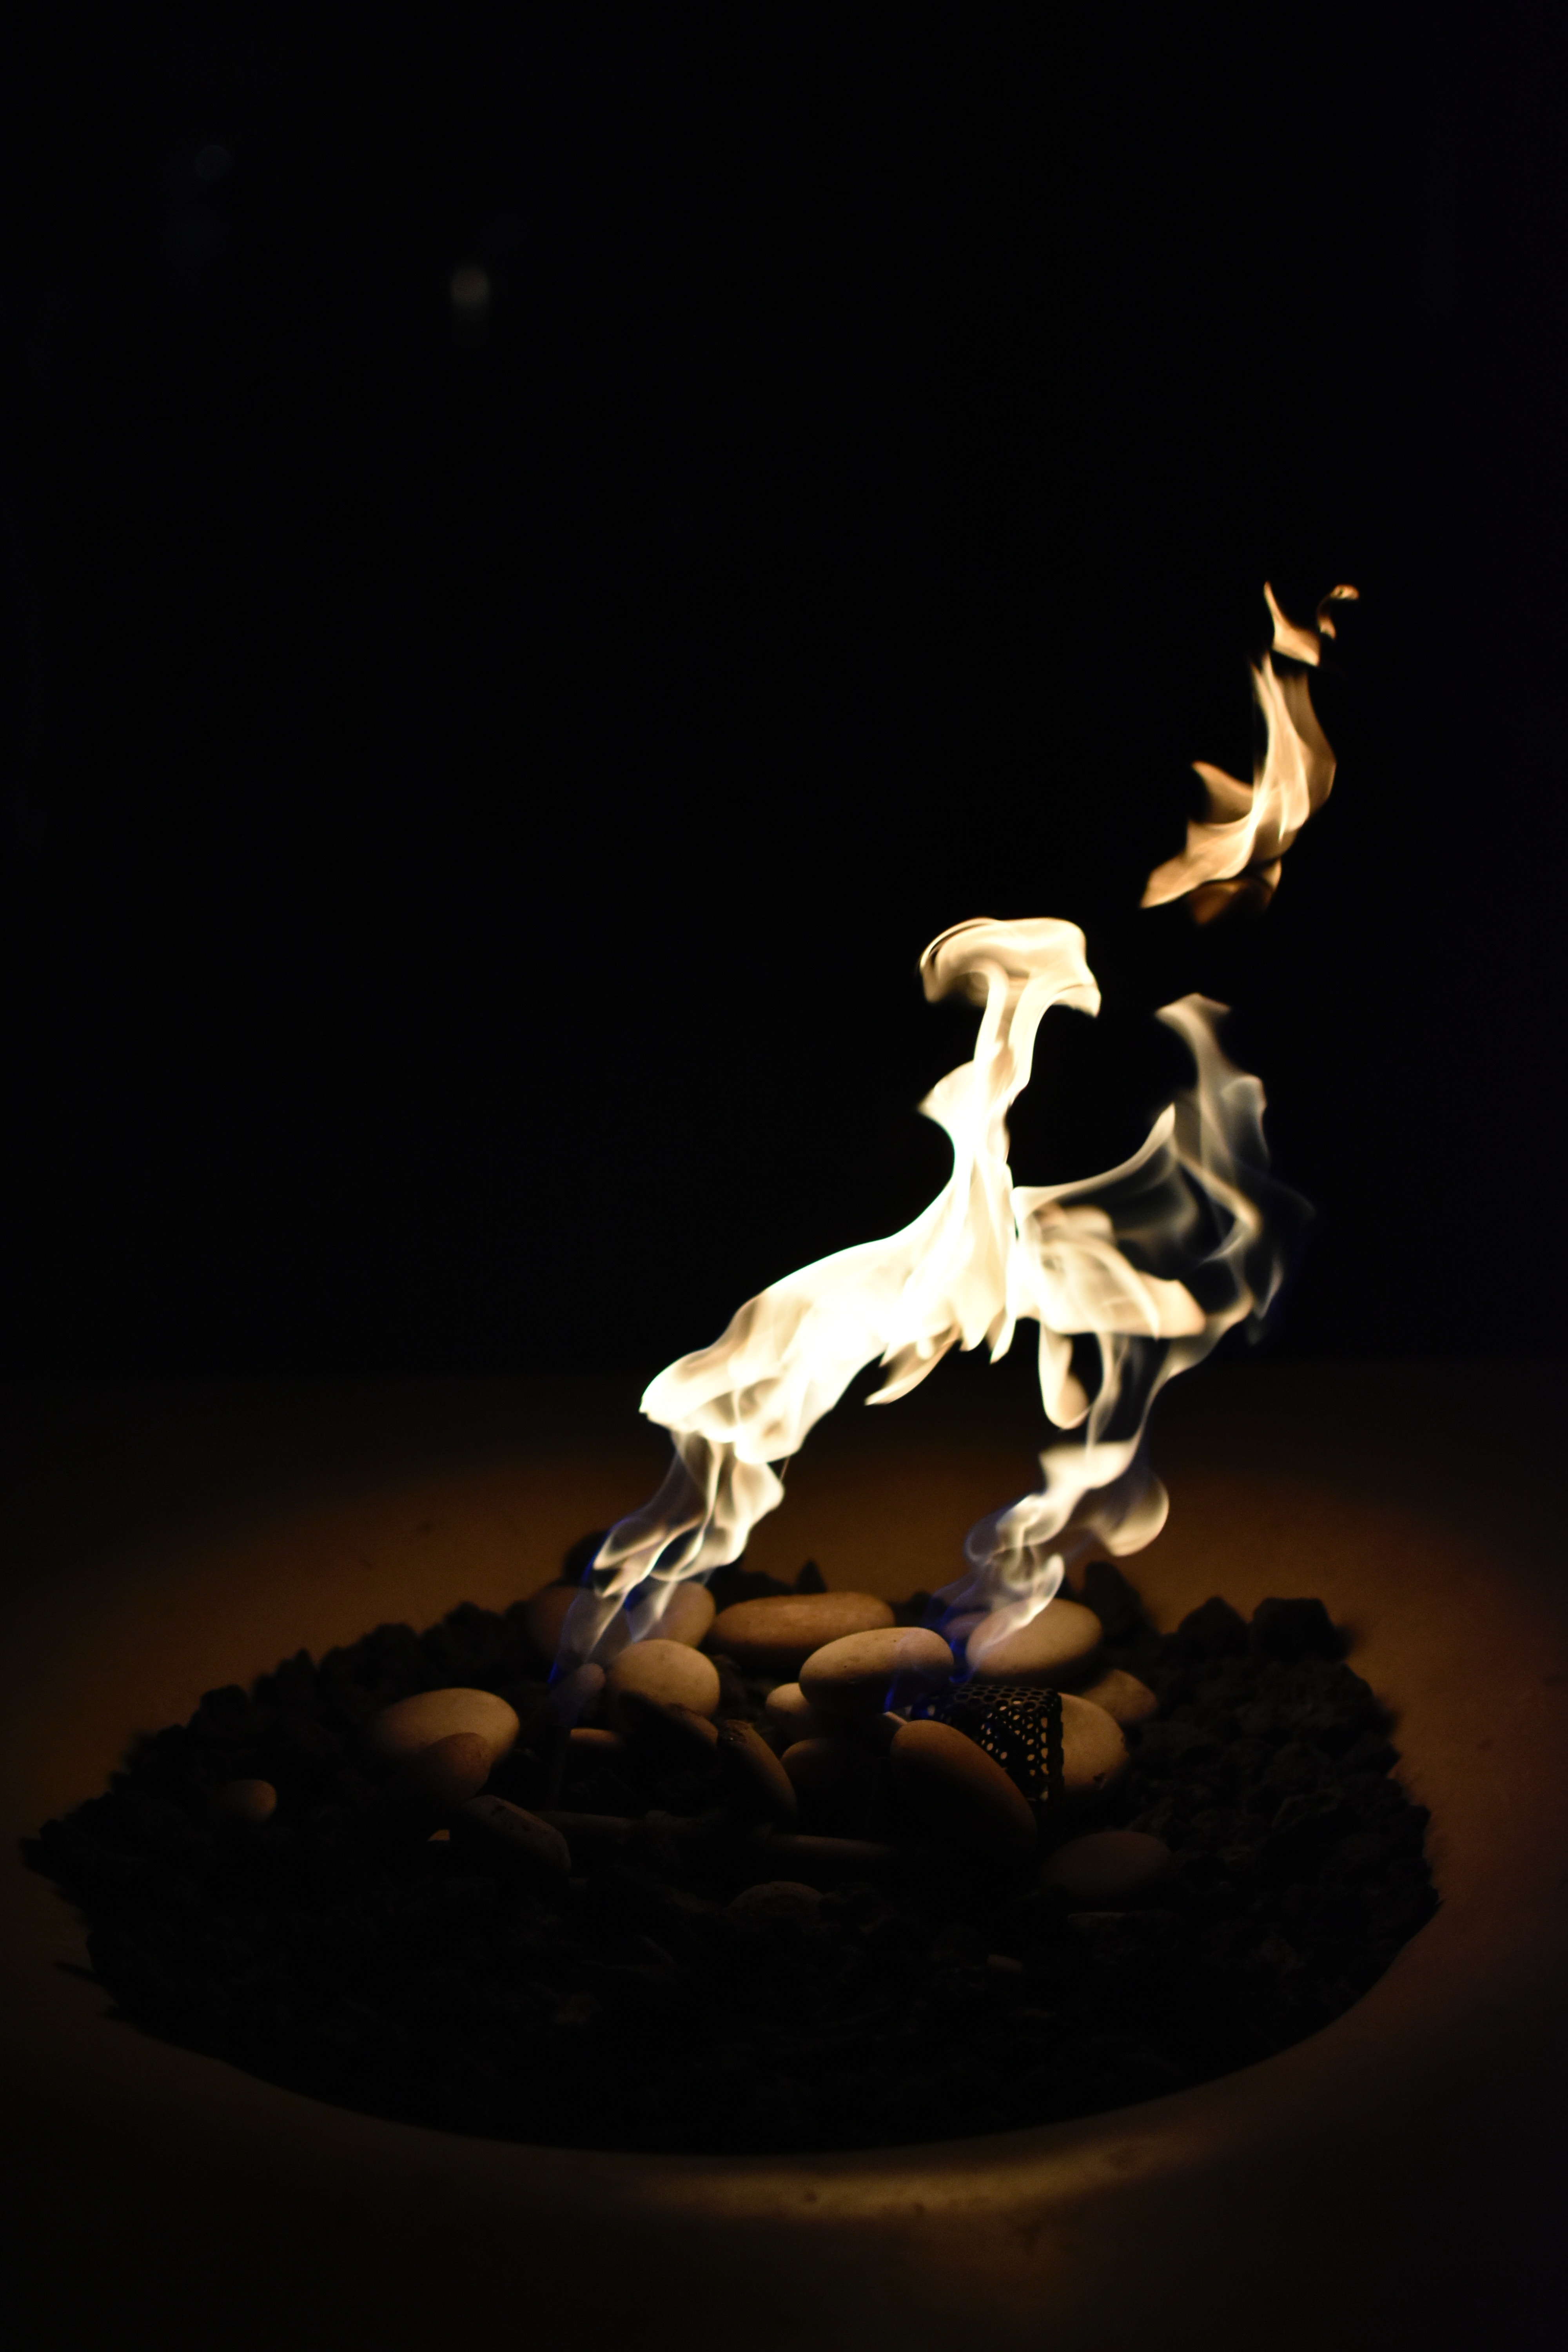fire: (642, 418, 1328, 1890)
